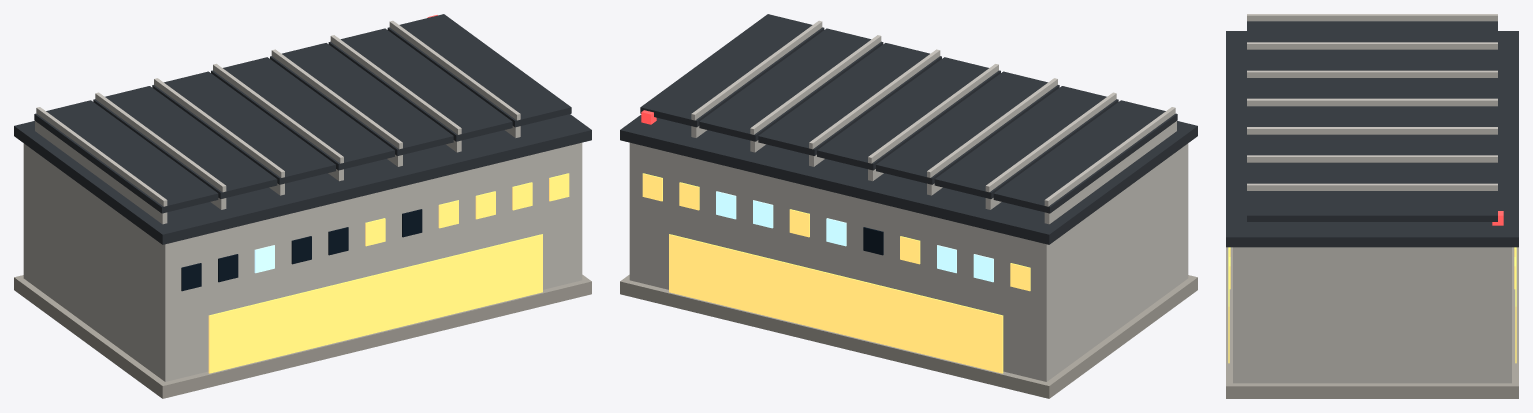
File: sk_mall.glb
3 views of the same model, side by side, from view 1: azimuth 30°, elevation 25°; view 2: azimuth 150°, elevation 25°; view 3: azimuth 270°, elevation 25° (orthographic).
Visible parts, largest first — view 1: mall_Wall, mall_Roof, mall_GlassLit, mall_Trim, mall_GlassDark, mall_GlassCool; view 2: mall_Wall, mall_Roof, mall_GlassLit, mall_Trim, mall_GlassCool, mall_GlassDark; view 3: mall_Roof, mall_Wall, mall_Trim, mall_GlassLit.
Boxes of the visible parts, <box> form: mall_Wall: <box>23,20,582,381</box>; mall_Roof: <box>14,14,591,244</box>; mall_GlassLit: <box>208,173,569,373</box>; mall_Trim: <box>14,274,591,398</box>; mall_GlassDark: <box>181,209,422,291</box>; mall_GlassCool: <box>254,245,274,273</box>; mall_Wall: <box>629,20,1188,381</box>; mall_Roof: <box>620,14,1197,244</box>; mall_GlassLit: <box>642,173,1030,373</box>; mall_Trim: <box>620,274,1197,398</box>; mall_GlassCool: <box>716,191,993,282</box>; mall_GlassDark: <box>863,227,883,255</box>; mall_Roof: <box>1226,21,1518,247</box>; mall_Wall: <box>1233,14,1511,383</box>; mall_Trim: <box>1226,247,1518,398</box>; mall_GlassLit: <box>1228,247,1516,363</box>.
Bounding box in the file's own units: 35 × 14.6 × 21.
